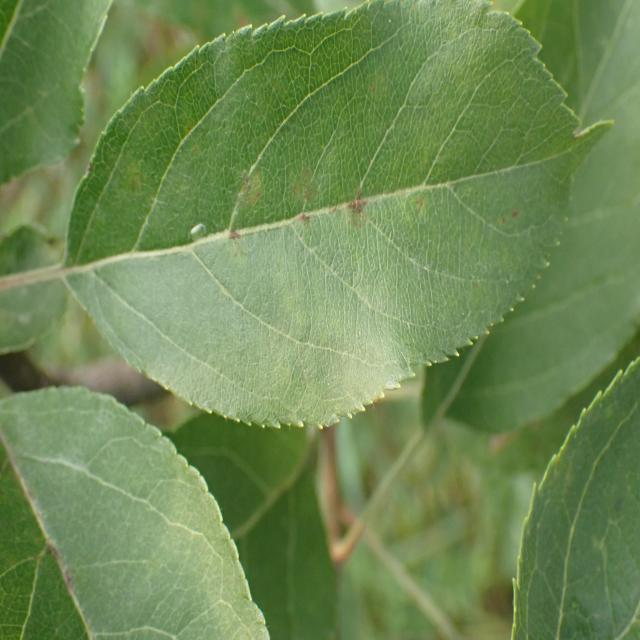scab: (108, 70, 594, 306), (0, 366, 118, 640)
